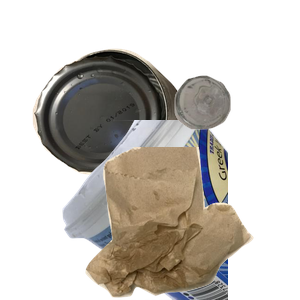glass: (172, 73, 300, 195)
metal: (30, 46, 205, 215)
plastic: (60, 120, 300, 300)
trash: (83, 147, 300, 300)
